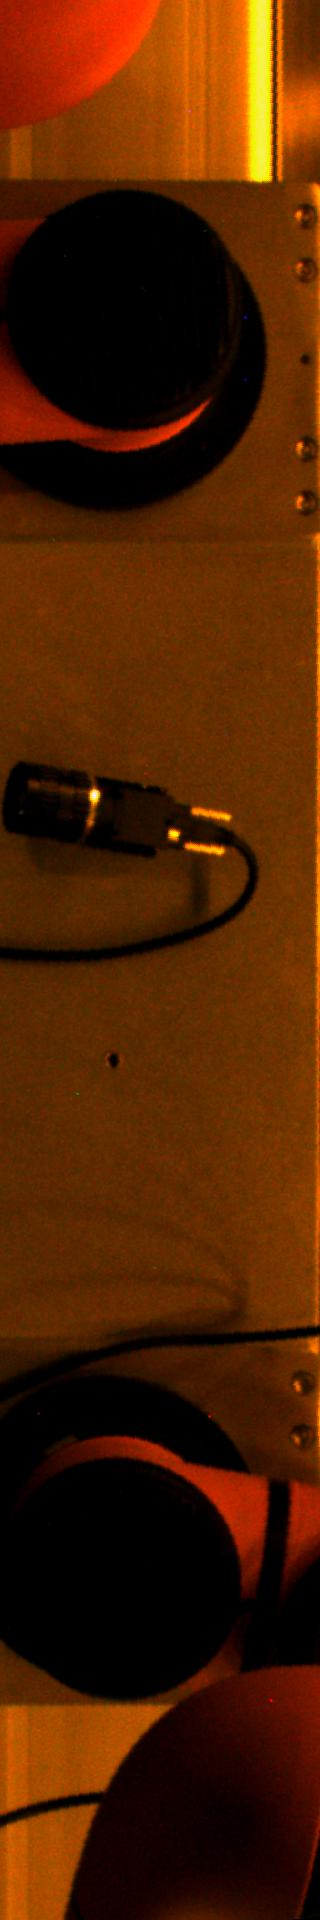keyPoint_2: (98, 1044, 128, 1075)
